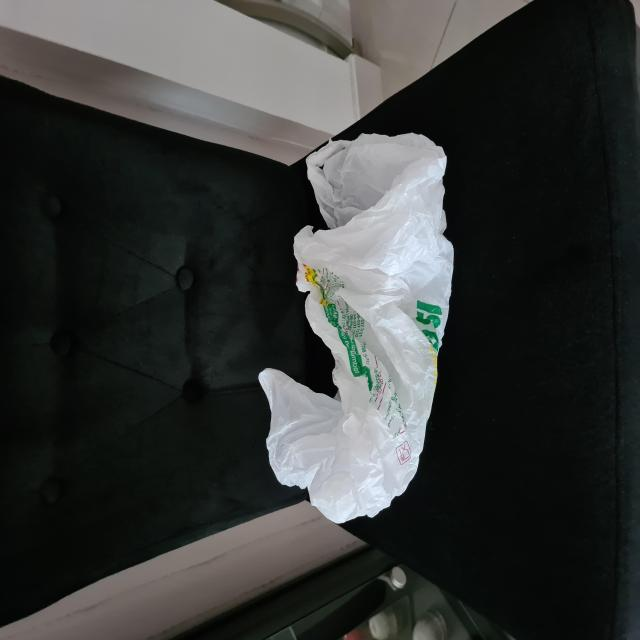plastic bag: (257, 133, 456, 522)
